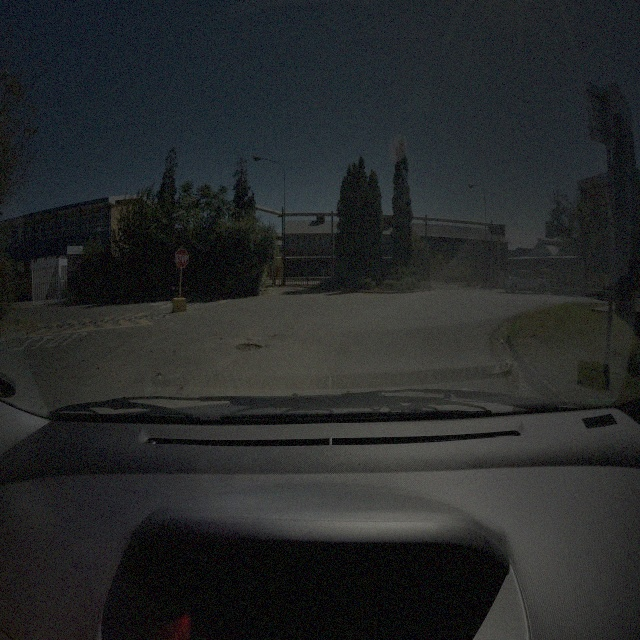pothole: (234, 340, 264, 354)
